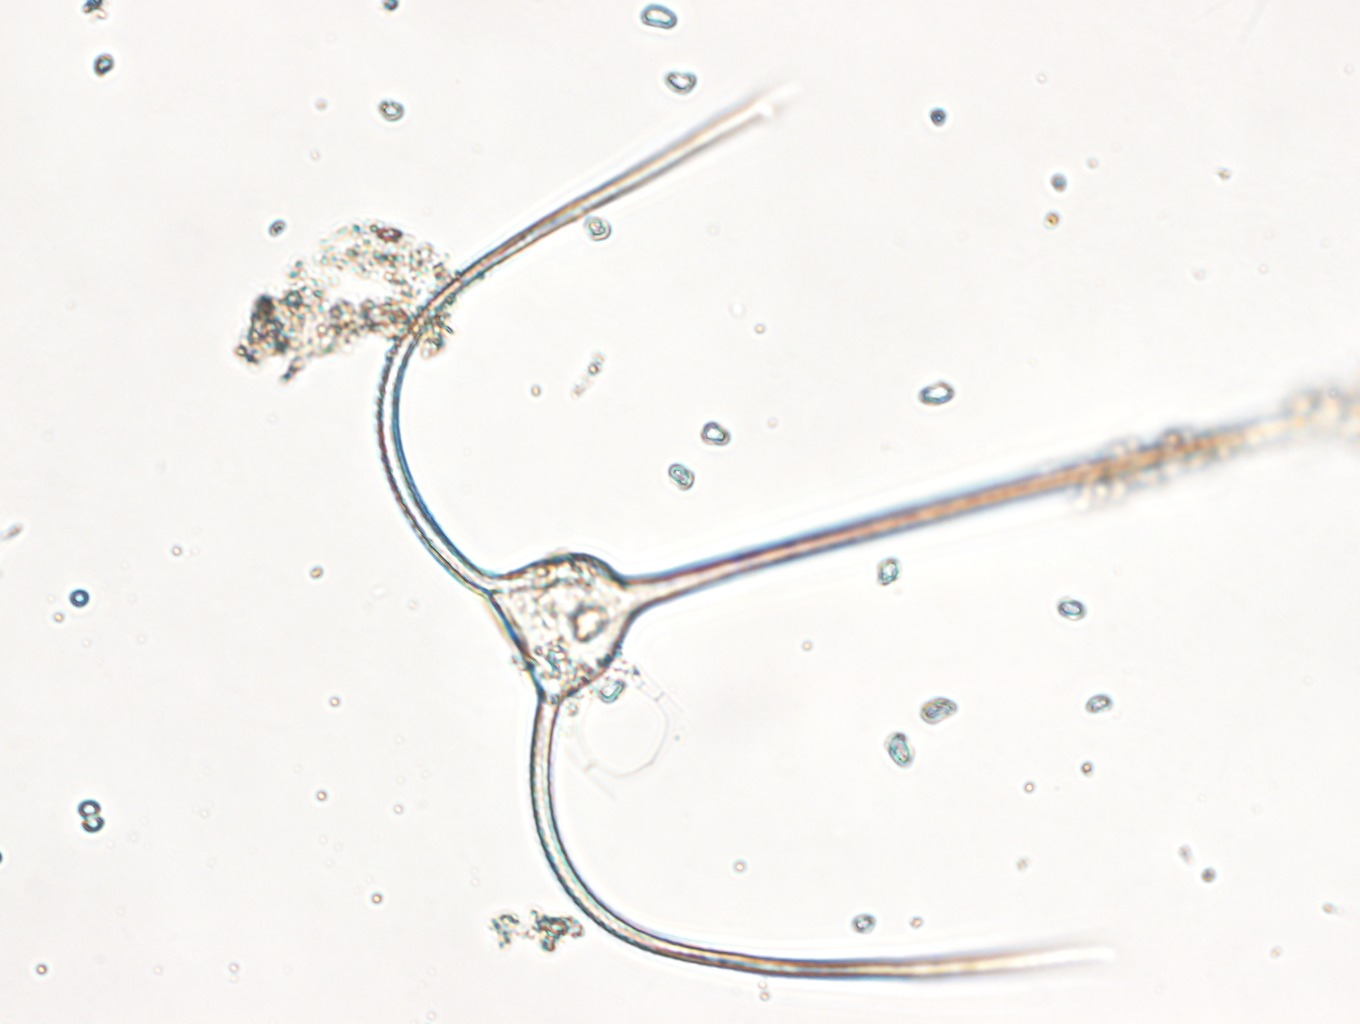ceratium trichoceros: (376, 83, 1360, 980)
